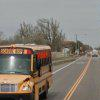Bus: (0, 40, 57, 98)
